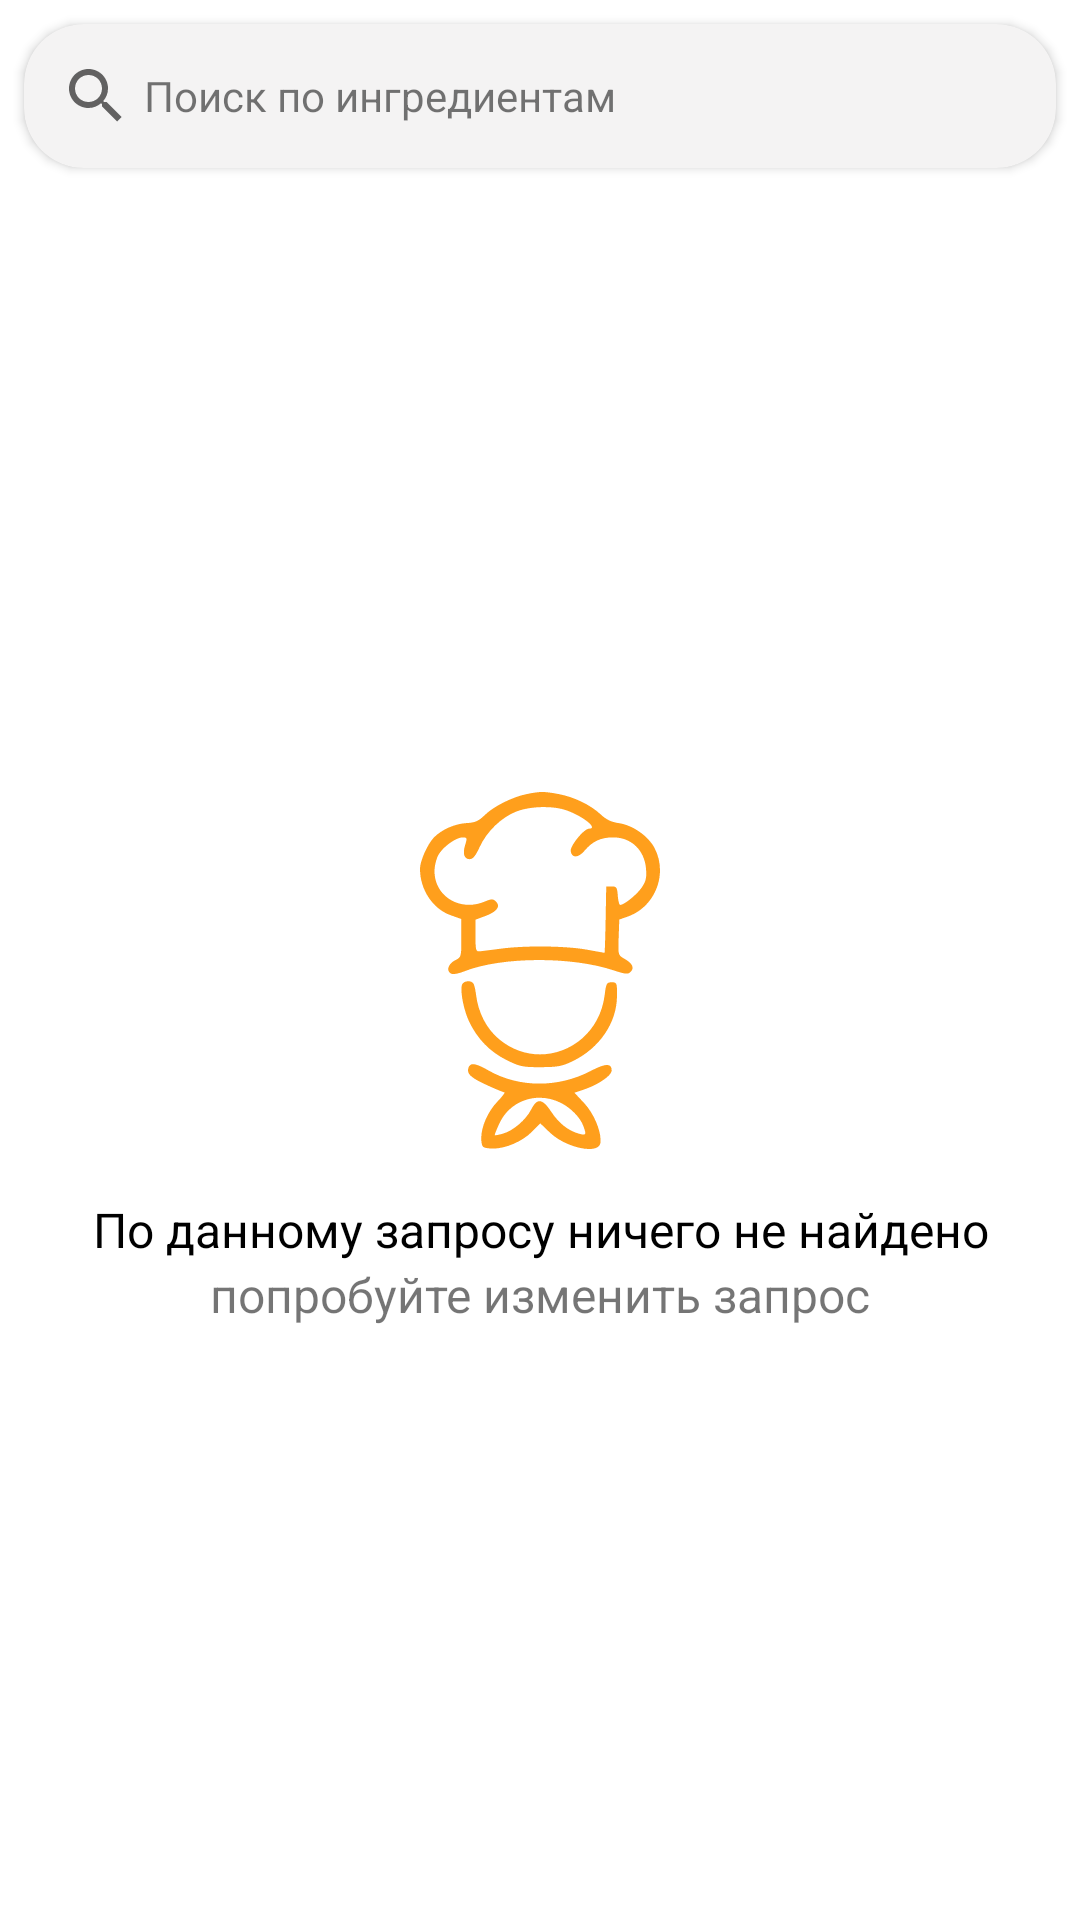

Where to tap for icons on this 1080×1920 app screen, as point (x, y):
cook: point (540, 970)
